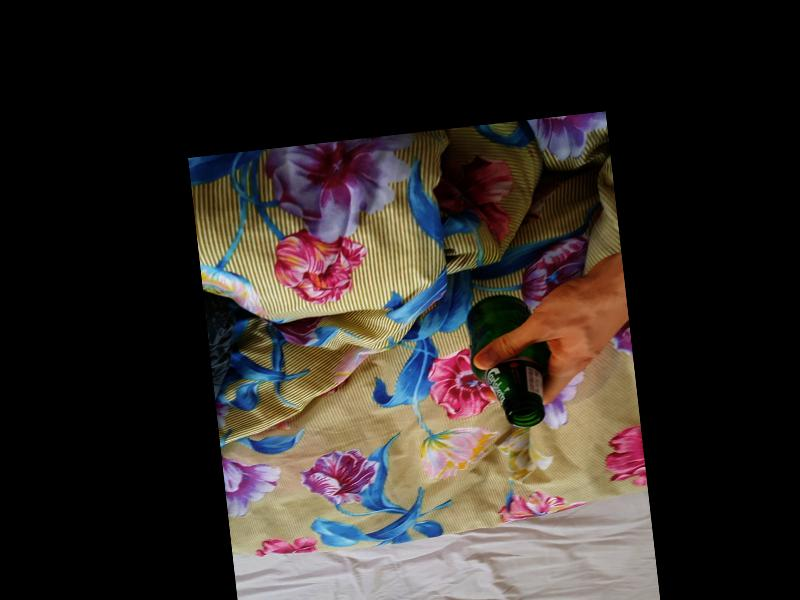Beer: (465, 290, 558, 430)
